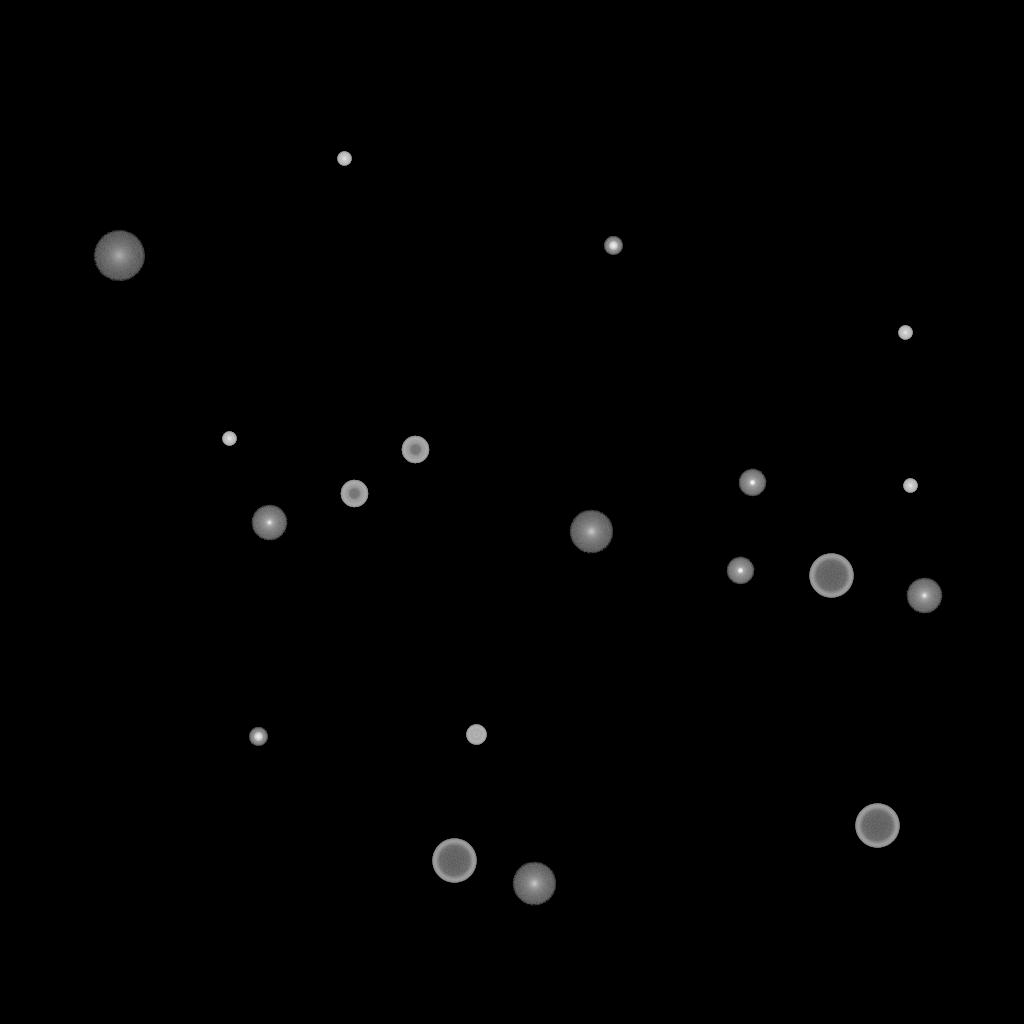depth:-10: (738, 469, 766, 497), (726, 557, 754, 585)
depth:-20: (604, 237, 622, 255), (249, 728, 267, 746)
depth:-30: (898, 326, 912, 340), (337, 152, 351, 166), (903, 479, 917, 493), (222, 432, 236, 446)
depth:-40: (466, 725, 486, 745)
depth:-50: (401, 436, 429, 464), (340, 480, 368, 508)
depth:-70: (855, 804, 899, 848), (809, 554, 853, 598), (432, 839, 476, 883)
depth:0: (251, 505, 287, 541), (906, 578, 942, 614)
depth:10: (569, 510, 613, 554), (512, 862, 556, 906)
depth:20: (93, 231, 145, 281)
